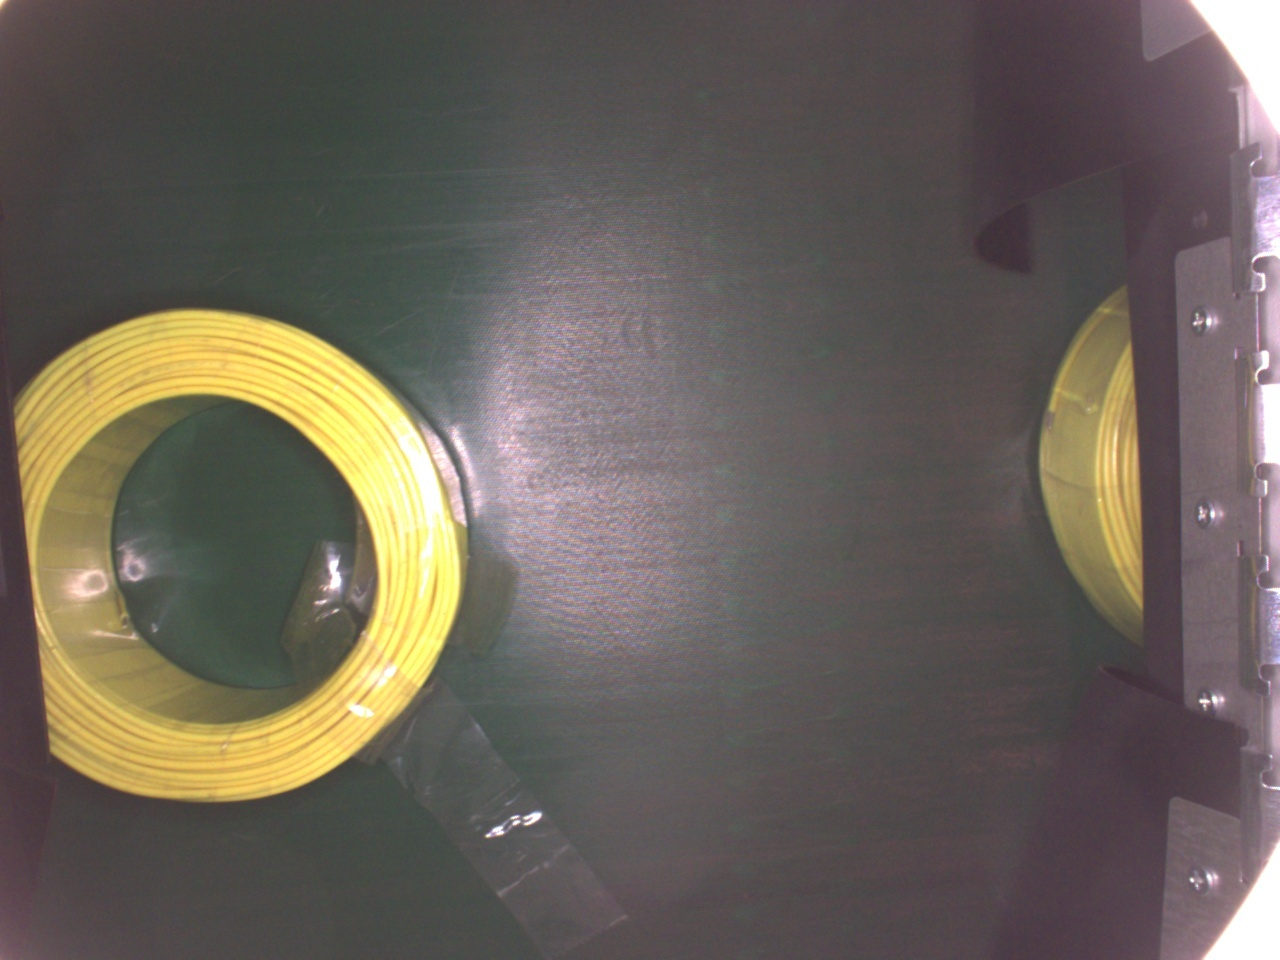yellow: (13, 306, 474, 802), (1038, 284, 1147, 650)
